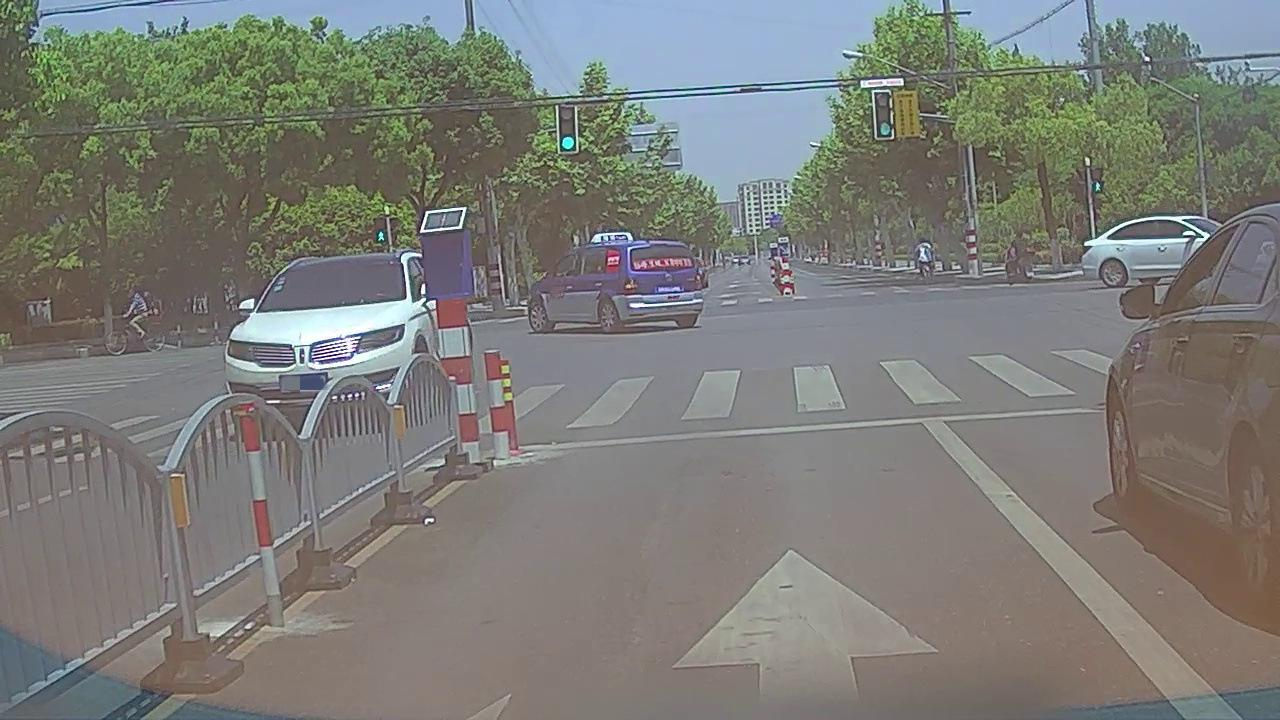traffic_light: (558, 104, 577, 151), (875, 90, 893, 139)
